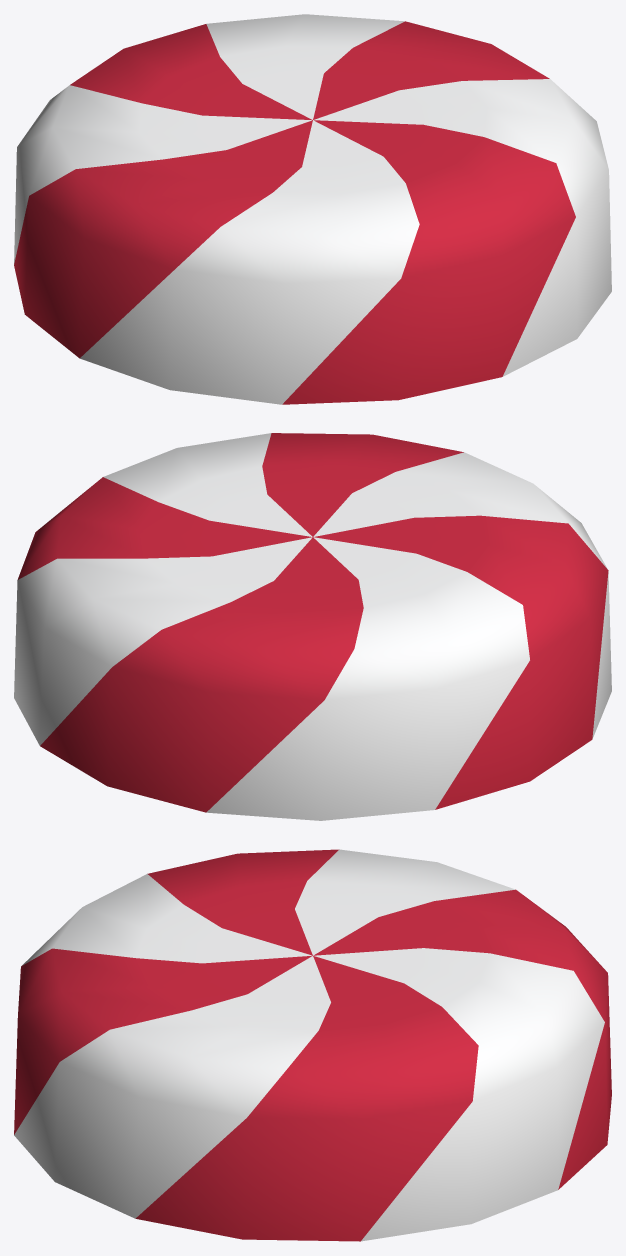
File: candy_peppermint.obj
3 views of the same model, one above another, from view 1: azimuth 30°, elevation 25°; view 2: azimuth 150°, elevation 25°; view 3: azimuth 270°, elevation 25° (orthographic).
Visible parts, largest first — view 1: candy_peppermint; view 2: candy_peppermint; view 3: candy_peppermint.
Part boxes in pixels (x1=…): candy_peppermint: x1=14, y1=14, x2=611, y2=404; candy_peppermint: x1=14, y1=433, x2=611, y2=820; candy_peppermint: x1=14, y1=849, x2=611, y2=1241.
Size of the model in its own units: 1.21 by 0.3565 by 1.21.
1 material, 1 textured.
